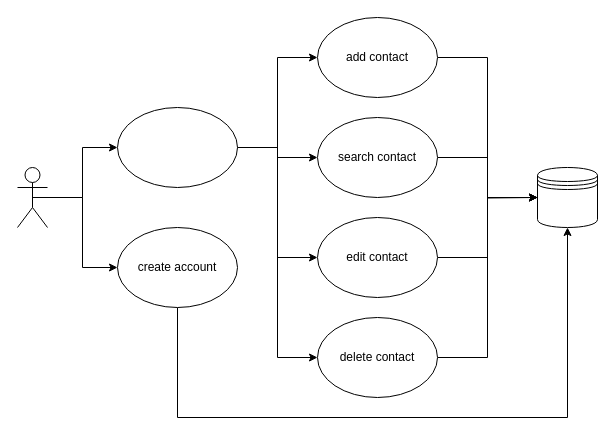
Some shapes in this 615 by 443 pixel diagram are drawn without their labels. Here are the shapes that lost their labels. From the top down, the box of each, then its label:
(116, 106, 238, 188): login
(16, 166, 48, 228): User
(536, 166, 598, 228): Database
